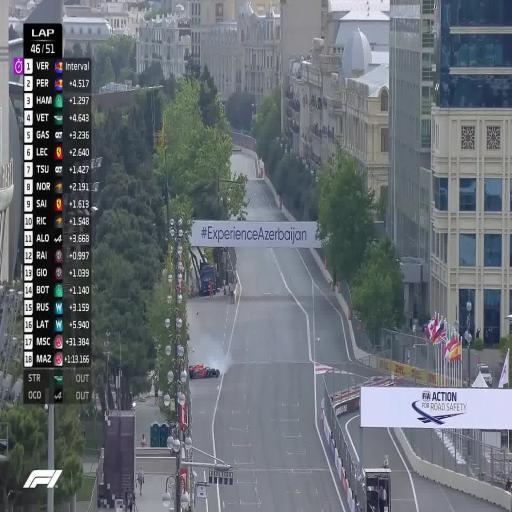f1_car: (189, 365, 220, 378)
